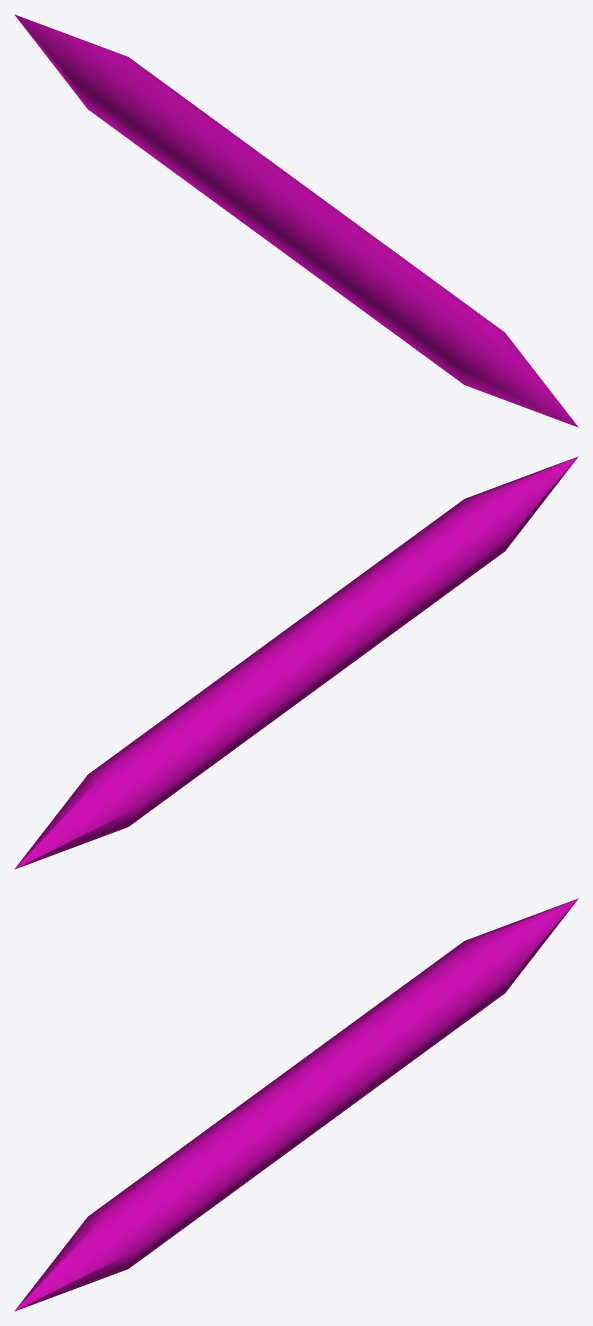
Rendered from majyu_beam.fbx.
The picture shows the model from 3 angles, top to bottom: view 1: azimuth 30°, elevation 25°; view 2: azimuth 150°, elevation 25°; view 3: azimuth 330°, elevation 25°; orthographic projection.
Visible parts, largest first — view 1: beam; view 2: beam; view 3: beam.
Boxes of the visible parts, left/top/right/bottom form: beam: left=14, top=14, right=578, bottom=427; beam: left=14, top=456, right=578, bottom=869; beam: left=14, top=898, right=578, bottom=1311.
Bounding box in the file's own units: 17.63 × 17.63 × 300.
